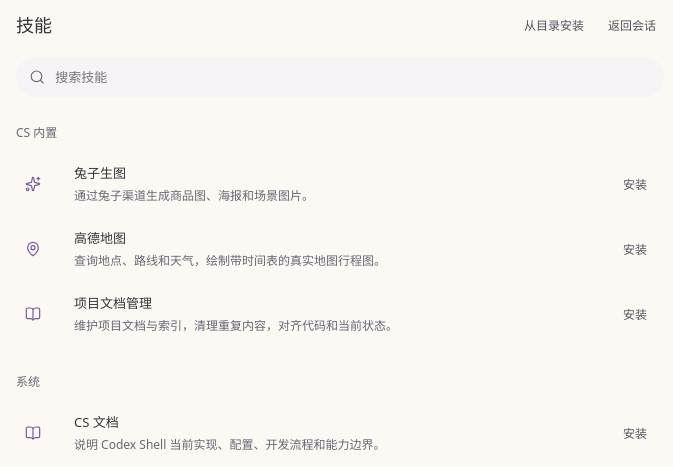
Test: keeps the builtin slot stable across installation, toggling and uninstall
Click the button "安装" in the row of "维护项目文档与索引，清理重复内容，对齐代码和当前状态。": (635, 314) [614,298,656,328]
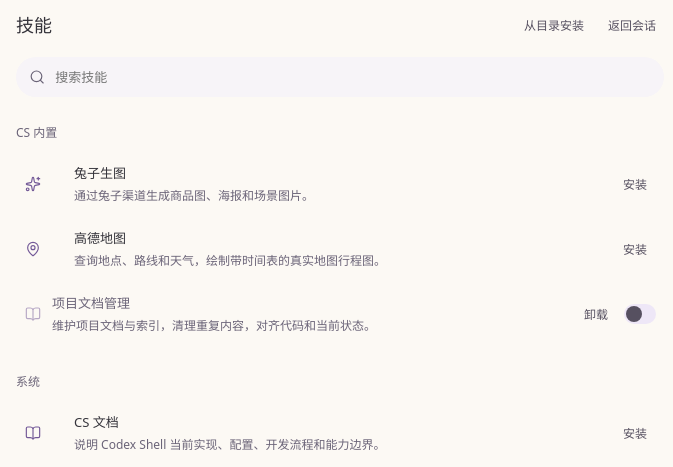
Click the switch named "project-management-docs 启用状态": (640, 314) [624,304,656,324]
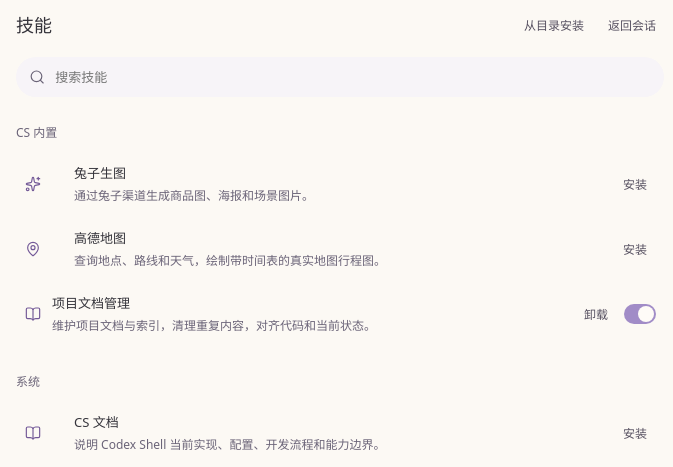
expect the switch named "project-management-docs 启用状态" is checked: met, box [624,304,656,324]
Click the button "卸载": (596, 314) [576,300,616,328]
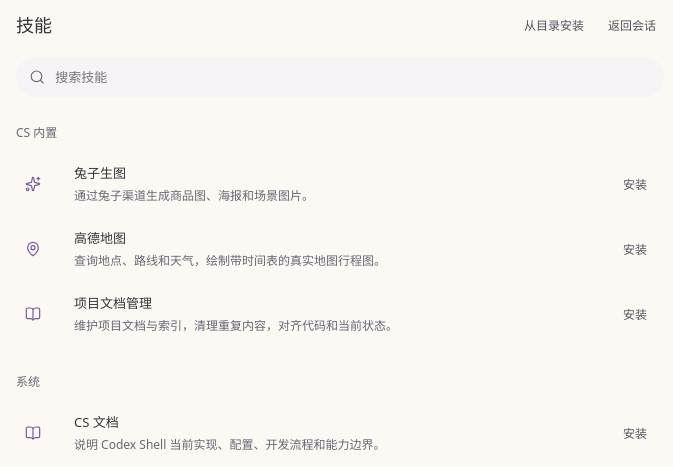
expect the button "安装" in the row of "维护项目文档与索引，清理重复内容，对齐代码和当前状态。" is shown: met, box [614,298,656,328]
